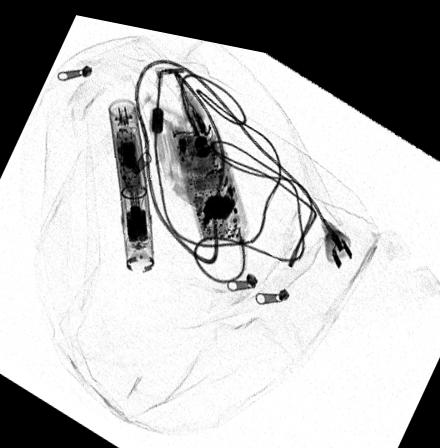Baton: (108, 93, 156, 269)
